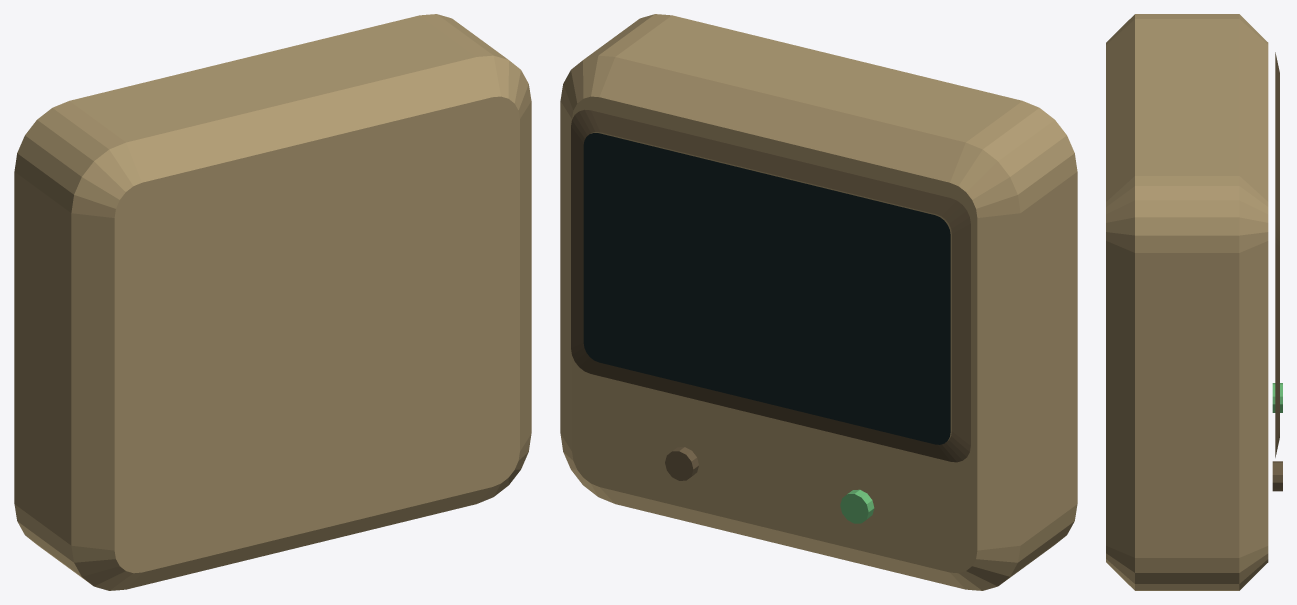
The model's file is stability_device.obj.
The picture shows the model from 3 angles, left to right: view 1: azimuth 30°, elevation 25°; view 2: azimuth 150°, elevation 25°; view 3: azimuth 270°, elevation 25°; orthographic projection. The views are drawn at different scales.
Visible parts, largest first — view 1: casing; view 2: casing, runtime_stability, display_recess, lamp_green, lamp_ivory_dark; view 3: casing, display_recess, lamp_ivory_dark.
Part boxes in pixels (x1,y1,x2,y2): casing: (14,14,531,590); casing: (560,14,1077,590); runtime_stability: (583,133,950,444); display_recess: (571,109,970,462); lamp_green: (840,489,874,523); lamp_ivory_dark: (665,447,698,480); casing: (1106,14,1268,590); display_recess: (1275,52,1279,457); lamp_ivory_dark: (1272,461,1282,491).
Bounding box in the file's own units: 0.42 × 0.39 × 0.1525.
